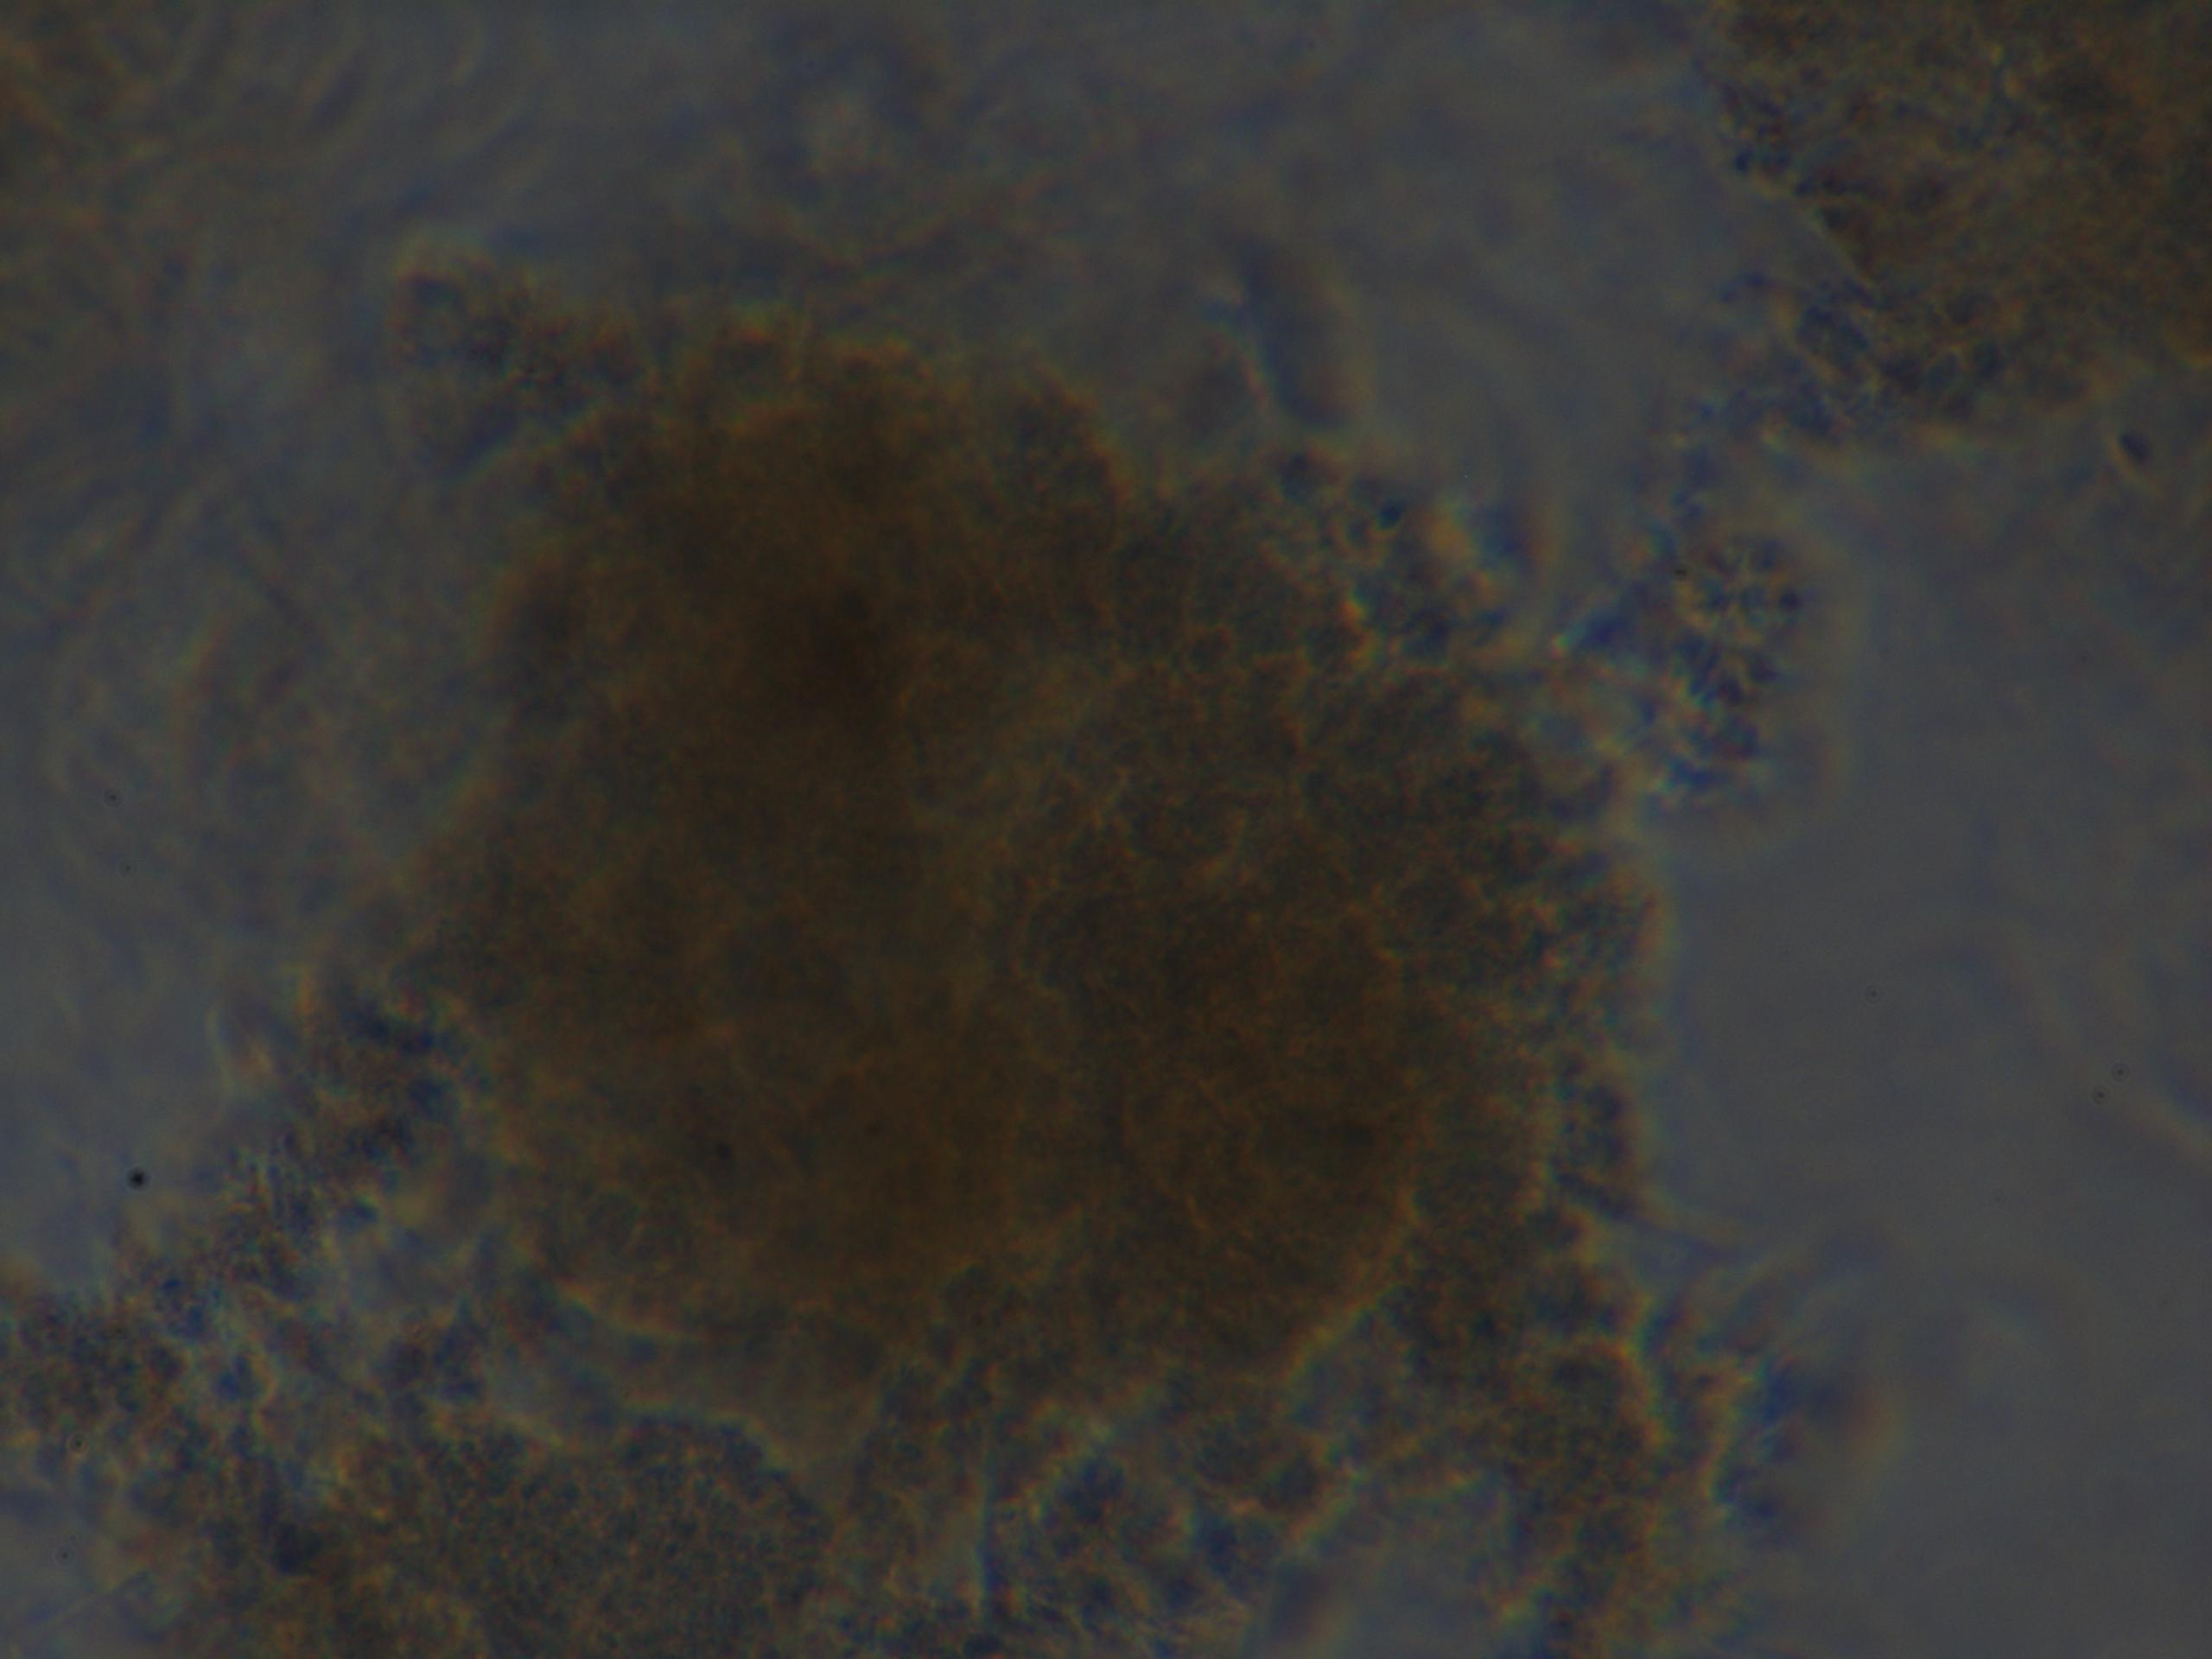spherical_floc: (366, 293, 1651, 1509)
